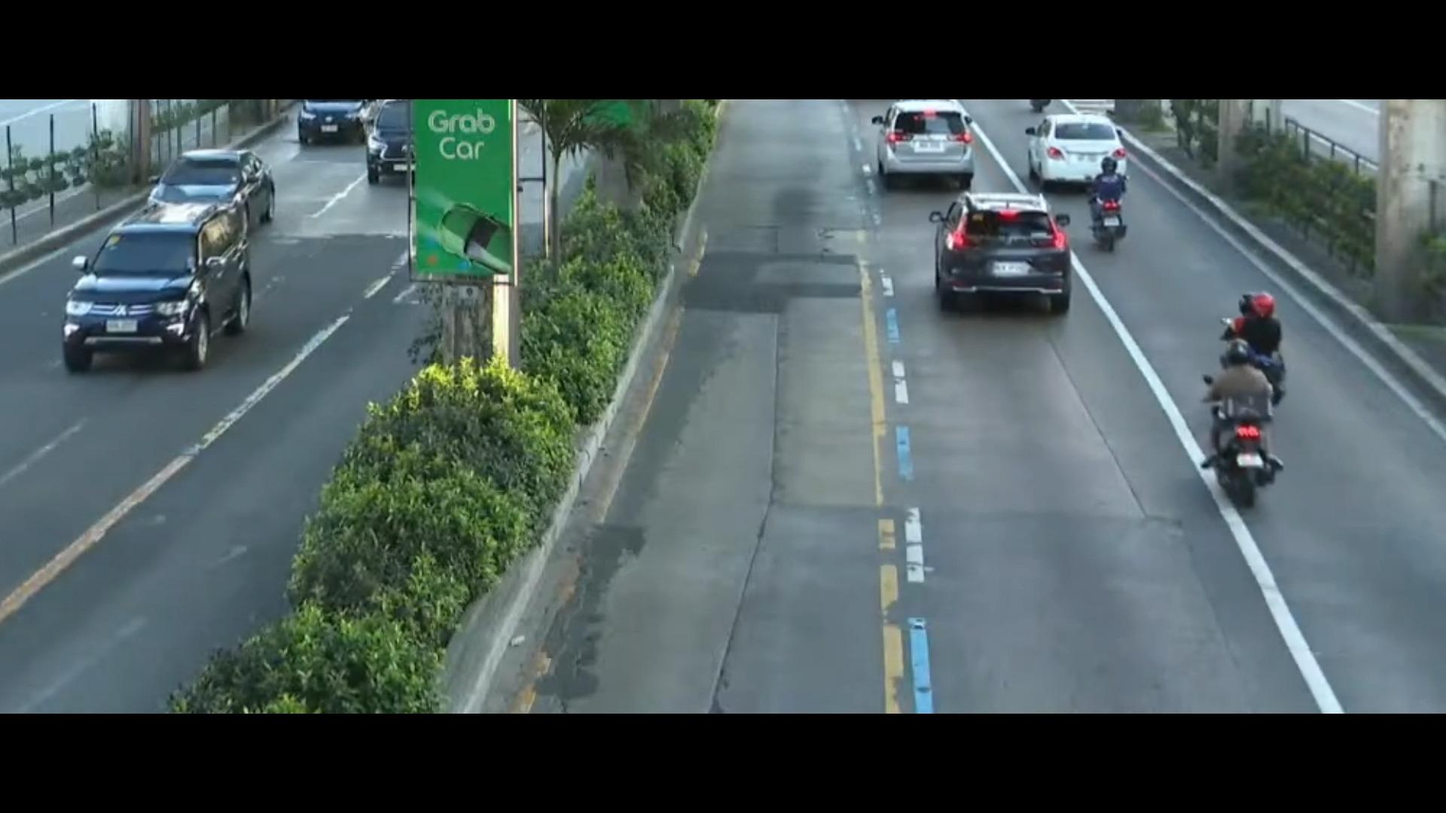Motorcycle: (1190, 334, 1289, 507), (1210, 259, 1316, 410), (1080, 146, 1153, 270)
SUV: (63, 184, 267, 380), (905, 174, 1085, 372), (873, 98, 997, 194), (1021, 101, 1138, 198), (357, 109, 421, 191)
Sedan: (133, 141, 289, 240)
